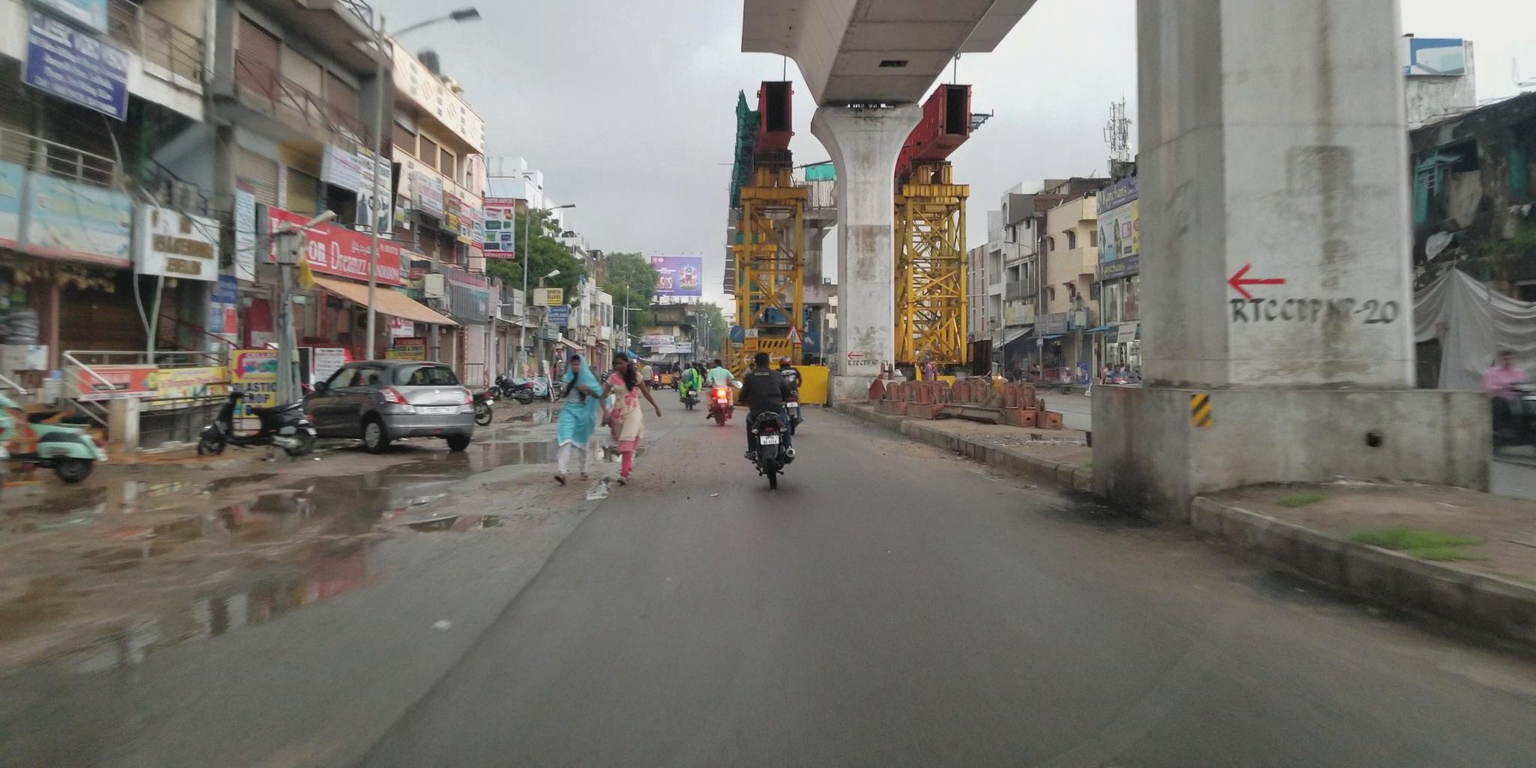streetlight: (378, 6, 490, 58), (522, 178, 581, 224)
